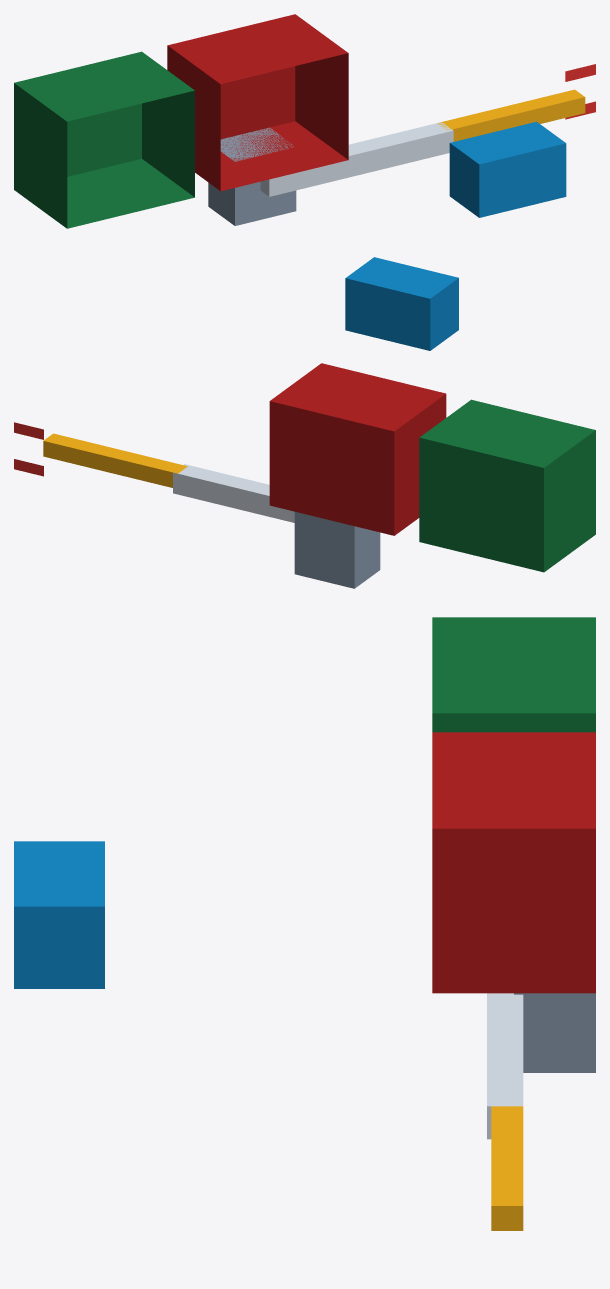
Rendered from catcher_arm_rig.obj.
The picture shows the model from 3 angles, top to bottom: view 1: azimuth 30°, elevation 25°; view 2: azimuth 150°, elevation 25°; view 3: azimuth 270°, elevation 25°; orthographic projection. The views are drawn at different scales.
Visible parts, largest first — view 1: accept_bin, reject_bin, catcher_camera_rig, arm_link_a, arm_base, arm_link_b, gripper; view 2: accept_bin, reject_bin, catcher_camera_rig, arm_base, arm_link_b, arm_link_a, gripper; view 3: reject_bin, accept_bin, catcher_camera_rig, arm_base, arm_link_a, arm_link_b.
Part boxes in pixels (x1,y1,x2,y2): accept_bin: [14, 51, 194, 228]; reject_bin: [167, 14, 348, 191]; catcher_camera_rig: [449, 121, 566, 217]; arm_link_a: [260, 122, 453, 196]; arm_base: [208, 127, 296, 225]; arm_link_b: [437, 89, 585, 141]; gripper: [565, 64, 595, 119]; accept_bin: [419, 399, 595, 572]; reject_bin: [269, 363, 446, 535]; catcher_camera_rig: [345, 257, 458, 350]; arm_base: [294, 511, 380, 588]; arm_link_b: [43, 433, 187, 487]; arm_link_a: [173, 464, 294, 522]; gripper: [14, 422, 43, 476]; reject_bin: [432, 732, 595, 993]; accept_bin: [432, 617, 595, 732]; catcher_camera_rig: [14, 841, 104, 988]; arm_base: [514, 993, 595, 1072]; arm_link_a: [487, 993, 523, 1139]; arm_link_b: [491, 1106, 523, 1230].
Bounding box in the file's own units: 2.2 × 0.64 × 1.28.
